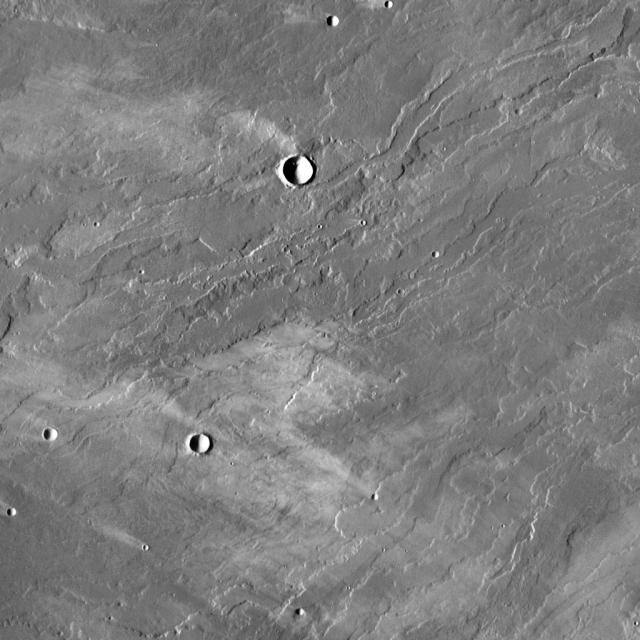crater: (286, 154, 316, 182), (192, 432, 214, 452), (47, 428, 61, 441), (296, 604, 308, 614), (332, 16, 342, 26), (10, 508, 19, 518), (518, 106, 526, 115), (427, 242, 434, 250), (387, 0, 395, 6)
